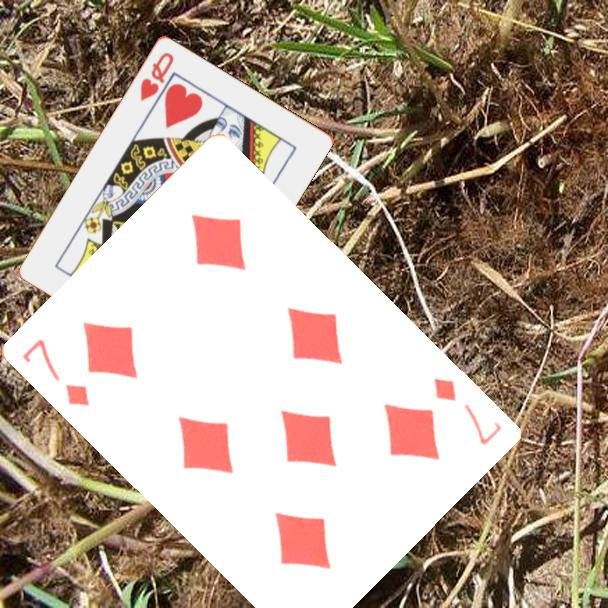d07: (19, 335, 94, 410), (431, 374, 506, 448)
h12: (136, 48, 177, 104)
